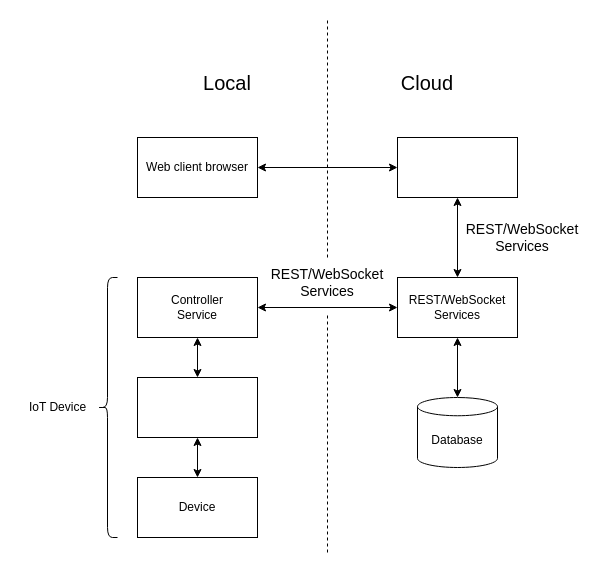
Image size: 604x571. Some labels were removed from this diagram. Each missing label, with the centre of its shape:
"FeedApp" belongs at point (457, 167).
"Resource" belongs at point (197, 407).
